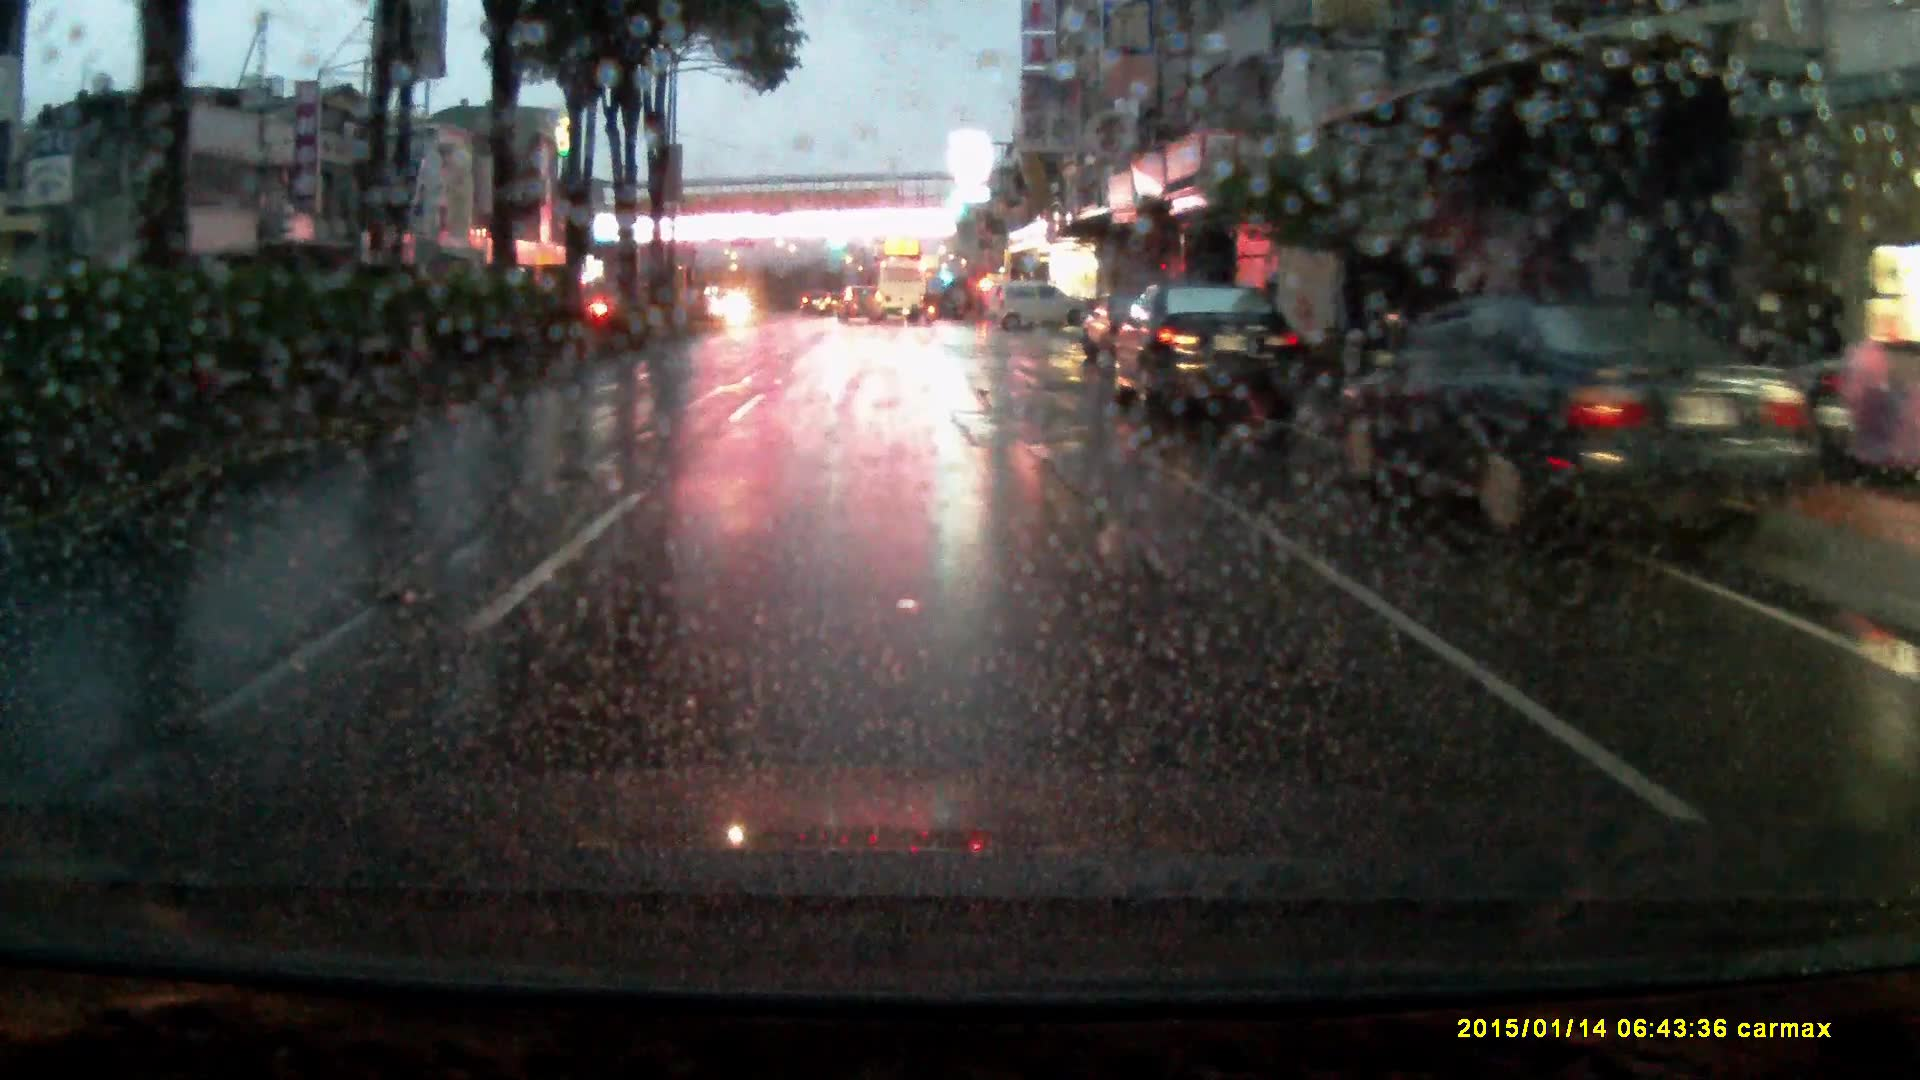vehicle: (1366, 305, 1800, 593), (1110, 285, 1300, 440), (1081, 294, 1141, 371), (858, 262, 928, 324), (997, 285, 1085, 332), (836, 294, 885, 336), (800, 298, 833, 328)
